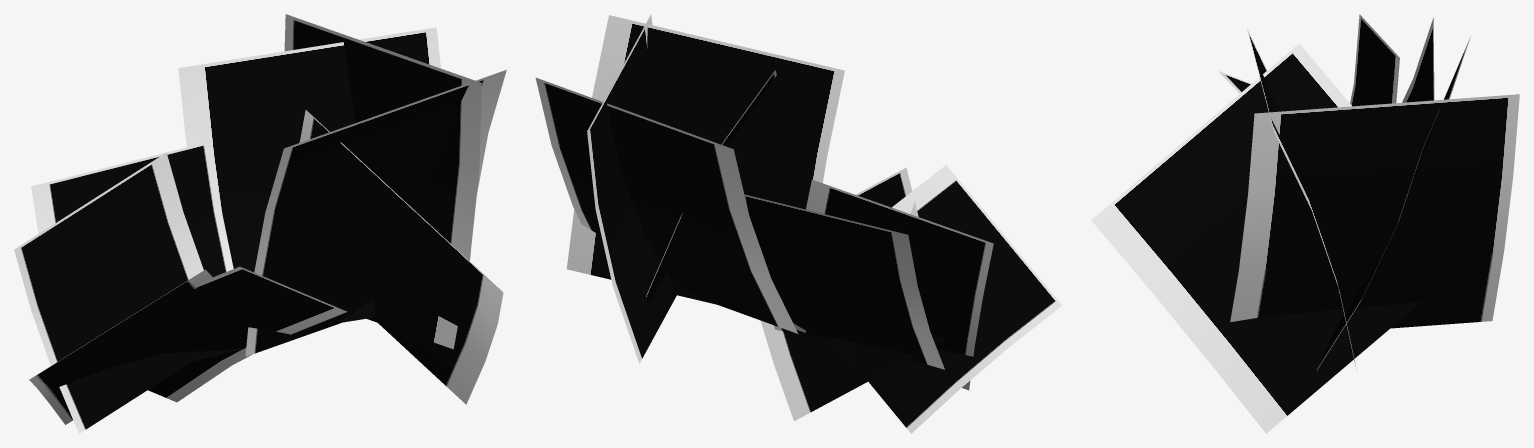
File: branchesmortes.fbx
3 views of the same model, side by side, from view 1: azimuth 30°, elevation 25°; view 2: azimuth 150°, elevation 25°; view 3: azimuth 270°, elevation 25° (orthographic). The views are drawn at different scales.
Parts seen in each view (by area): view 1: polySurface667, polySurface668; view 2: polySurface667, polySurface668; view 3: polySurface667, polySurface668.
Part boxes in pixels (x1,y1,x2,y2): polySurface667: [178, 14, 506, 404]; polySurface668: [14, 141, 347, 433]; polySurface667: [535, 14, 844, 363]; polySurface668: [744, 165, 1062, 433]; polySurface667: [1091, 29, 1519, 433]; polySurface668: [1218, 14, 1434, 106].
Bounding box in the file's own units: 2234 × 1431 × 1710.
